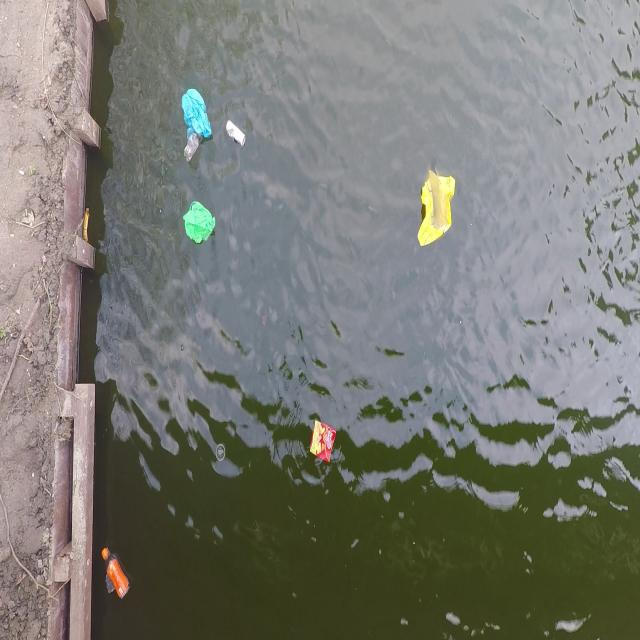Autre plastique: (309, 419, 337, 465)
Bouteille plastique: (102, 549, 132, 596), (179, 133, 203, 165)
Non plastique: (225, 119, 247, 150)
